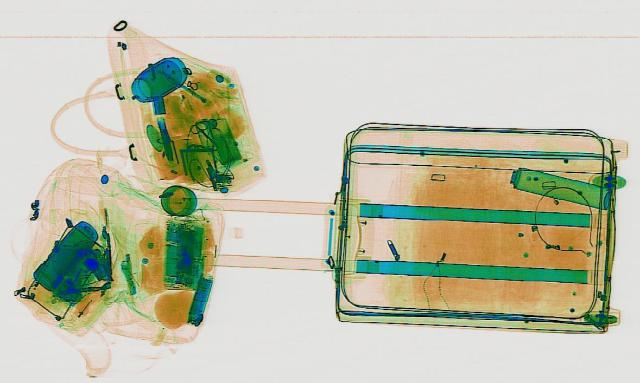Scissors: (182, 120, 230, 149)
